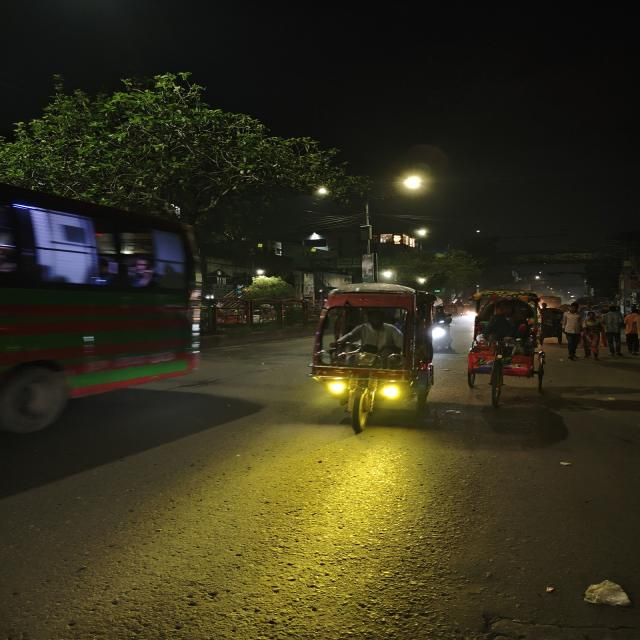bus: (0, 174, 203, 437)
pedestrian: (574, 303, 604, 361), (598, 303, 627, 359), (561, 301, 587, 359), (539, 295, 566, 345), (624, 303, 640, 355)
rickshaw: (302, 282, 445, 438), (460, 289, 550, 395)
